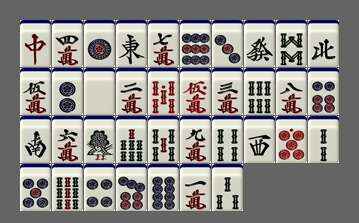0m: (180, 68, 211, 115)
0p: (276, 116, 307, 163)
0s: (148, 68, 179, 115)
1m: (180, 164, 211, 211)
1p: (84, 20, 115, 67)
1s: (84, 116, 115, 163)
1z: (116, 20, 147, 67)
2m: (116, 68, 147, 115)
2p: (52, 68, 83, 115)
2s: (308, 116, 339, 163)
2z: (20, 116, 51, 163)
3m: (212, 68, 243, 115)
3p: (212, 20, 243, 67)
3s: (212, 164, 243, 211)
3z: (244, 116, 275, 163)
4m: (52, 20, 83, 67)
4p: (84, 164, 115, 211)
4s: (212, 116, 243, 163)
4z: (308, 20, 339, 67)
5m: (20, 68, 51, 115)
5p: (20, 164, 51, 211)
5s: (148, 116, 179, 163)
5z: (84, 68, 115, 115)
6m: (52, 116, 83, 163)
6p: (308, 68, 339, 115)
6s: (244, 68, 275, 115)
6z: (244, 20, 275, 67)
7m: (148, 20, 179, 67)
7p: (116, 164, 147, 211)
7s: (116, 116, 147, 163)
7z: (20, 20, 51, 67)
8m: (276, 68, 307, 115)
8p: (148, 164, 179, 211)
8s: (276, 20, 307, 67)
9m: (180, 116, 211, 163)
9p: (180, 20, 211, 67)
9s: (52, 164, 83, 211)
